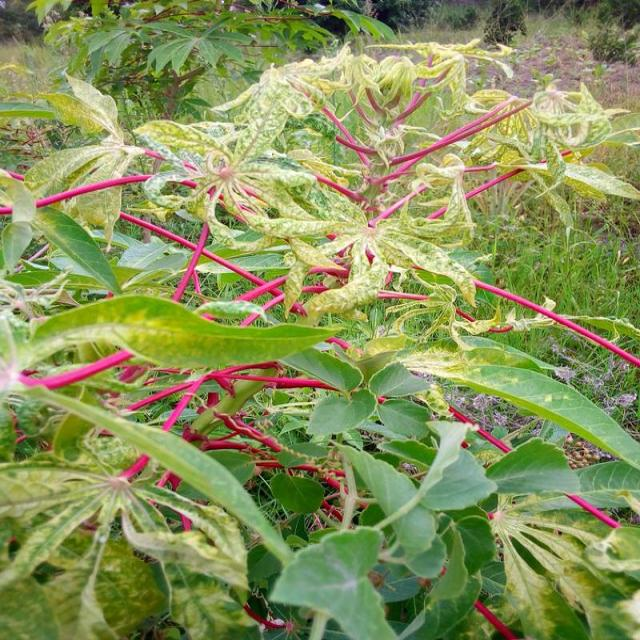cassava leaf: (2, 34, 640, 638), (28, 292, 346, 372)
